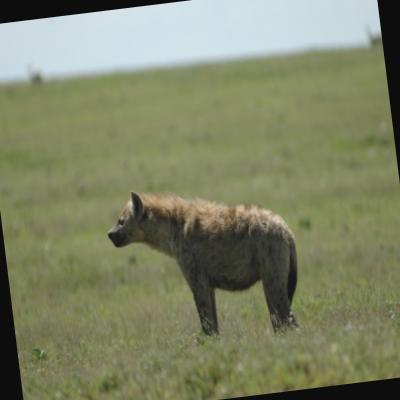hyenas: (70, 132, 338, 367)
